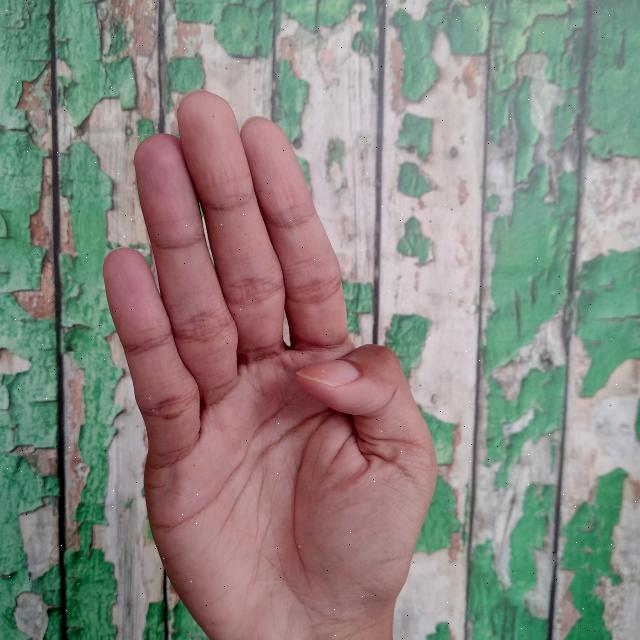B: (97, 85, 448, 640)
